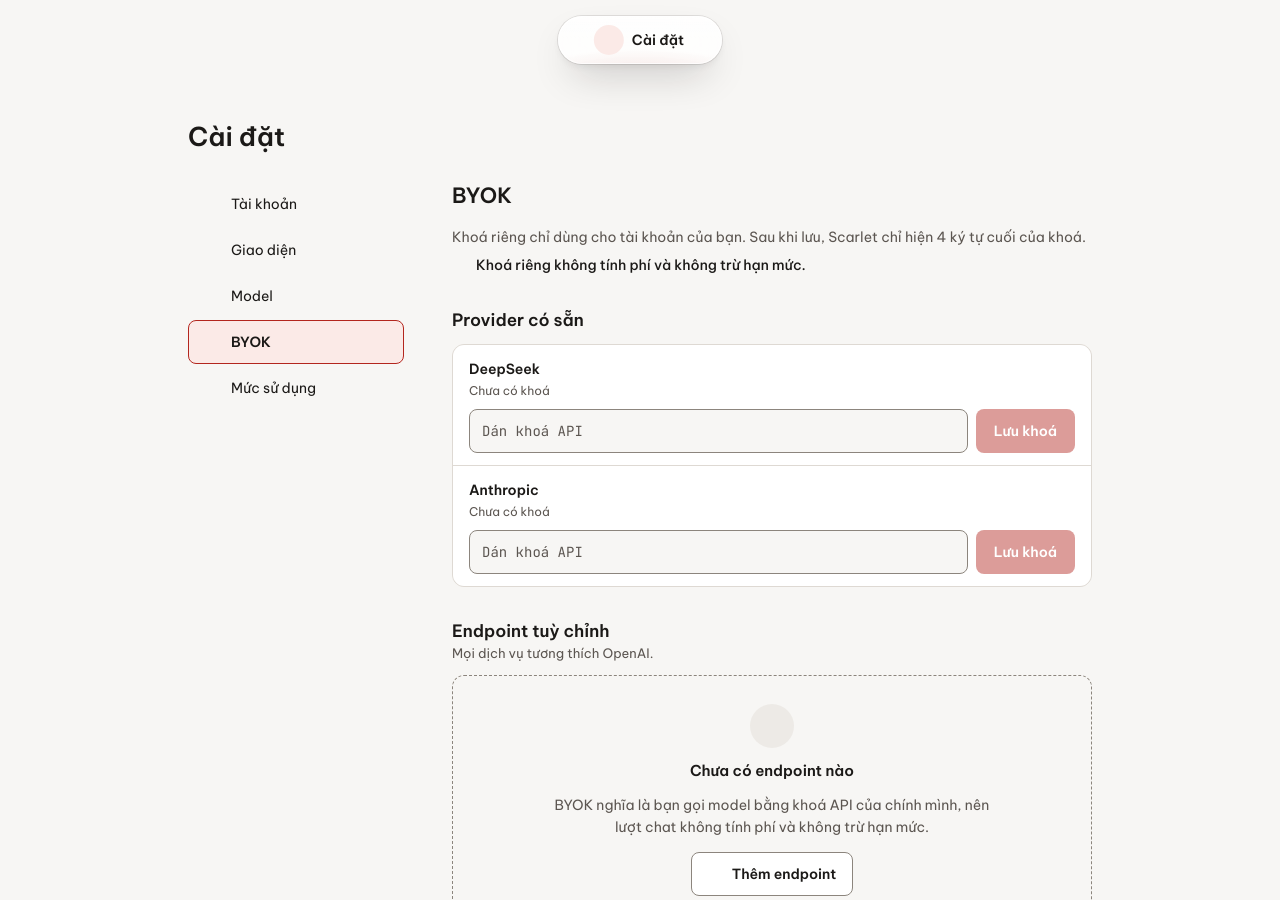
BYOK — provider › 27. them khoa ⇒ hien DUNG ban che; ban ro khong con o dau ca (§20)
Type "sk-banro-KHONG-DUOC-HIEN-1234567890" into the password field labelled "Anthropic" at (718, 552), box x1=469 y1=530 x2=968 y2=574
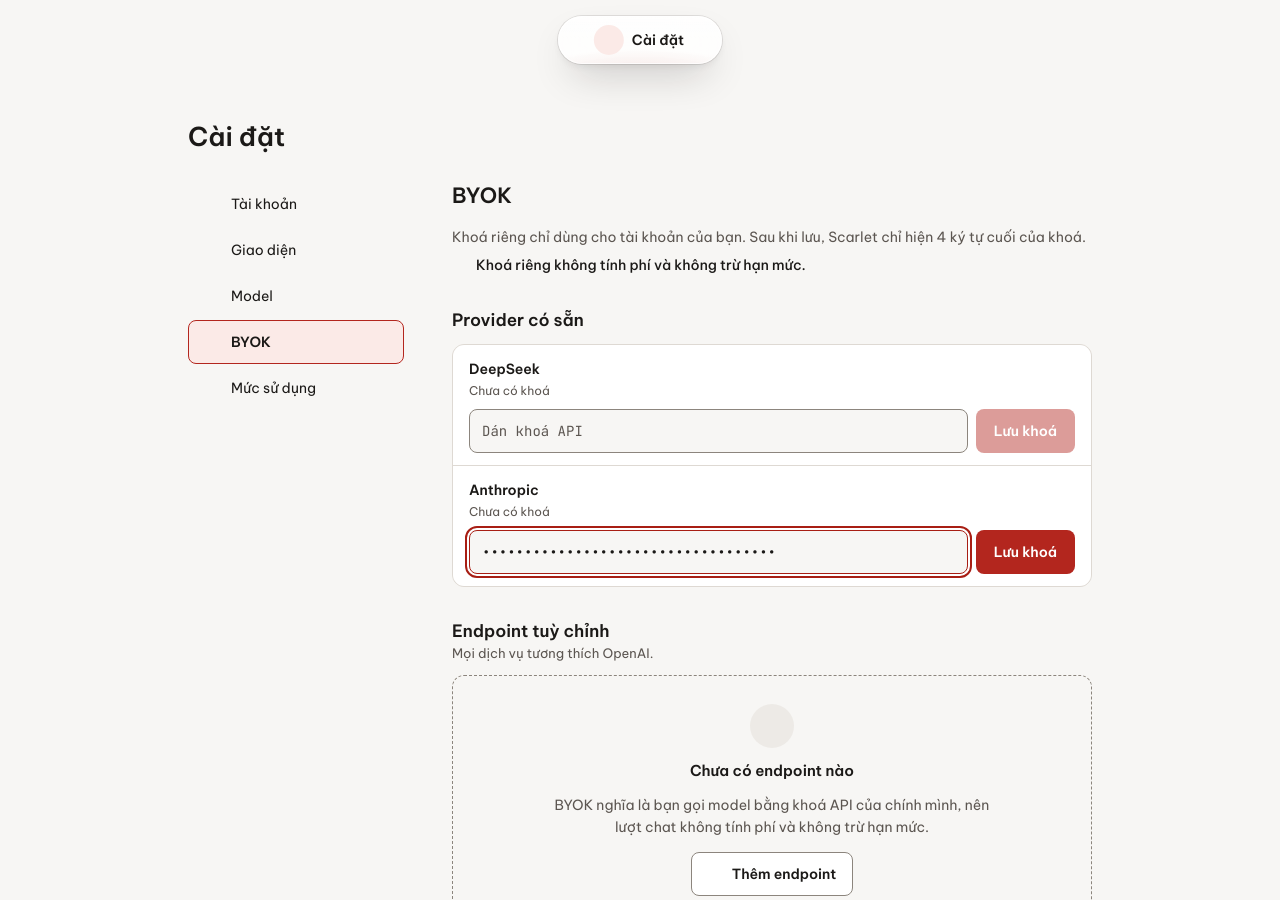
Click the 2nd button "Lưu khoá" at (1025, 552), box x1=976 y1=530 x2=1075 y2=574
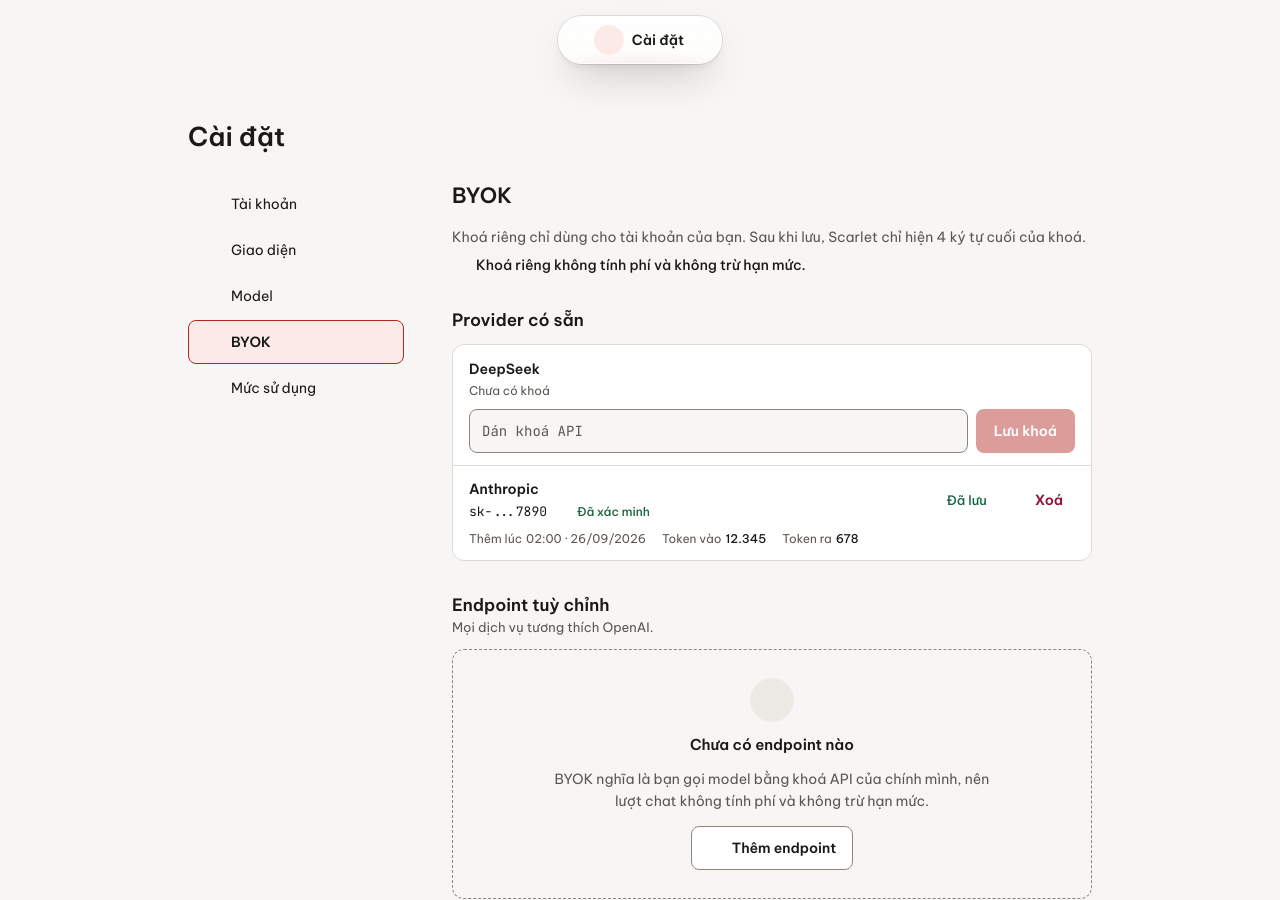
Check: the text with test id "masked-key" reads "sk-...7890", box x1=469 y1=503 x2=547 y2=520
Check: the text "Đã lưu" is shown, box x1=946 y1=492 x2=987 y2=508
